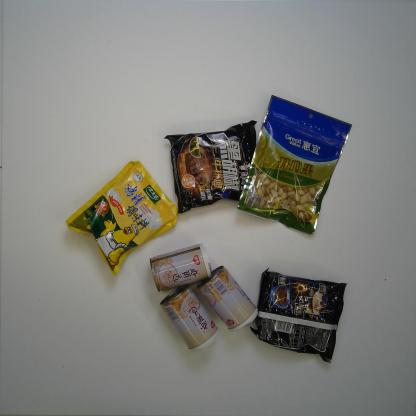Canned Food: (196, 264, 259, 332), (159, 283, 219, 352), (149, 242, 213, 292)
Dried Fruit: (236, 94, 352, 239)
Instant Noodles: (249, 267, 348, 364), (162, 120, 258, 215)
Seasoner: (65, 159, 178, 276)
